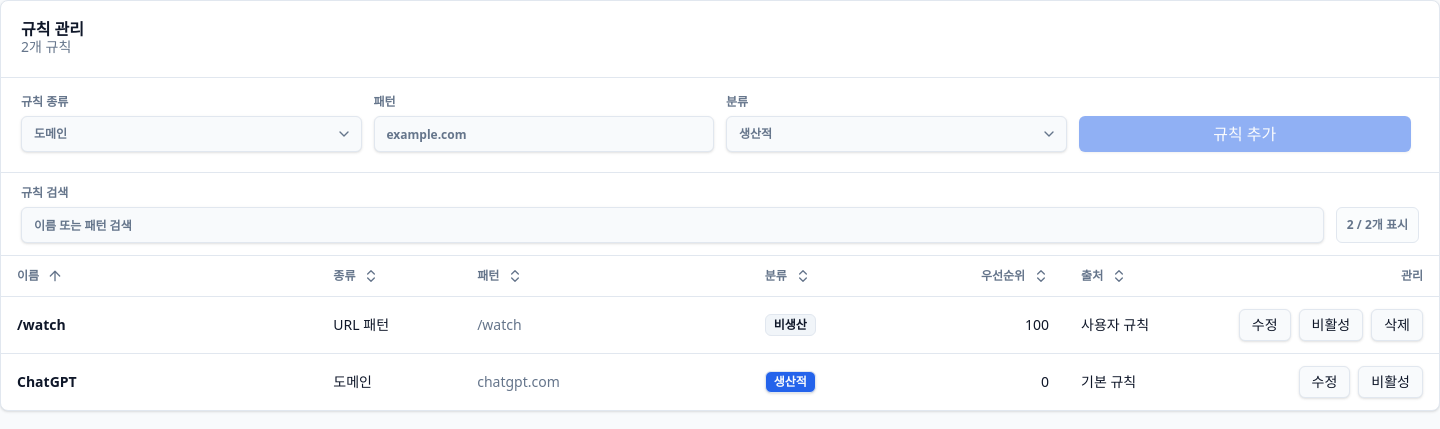
Test: RulesSettings › deletes user rules from the management column
Step 1. Click the button "삭제" → (1397, 324), box [1371,308,1423,340]
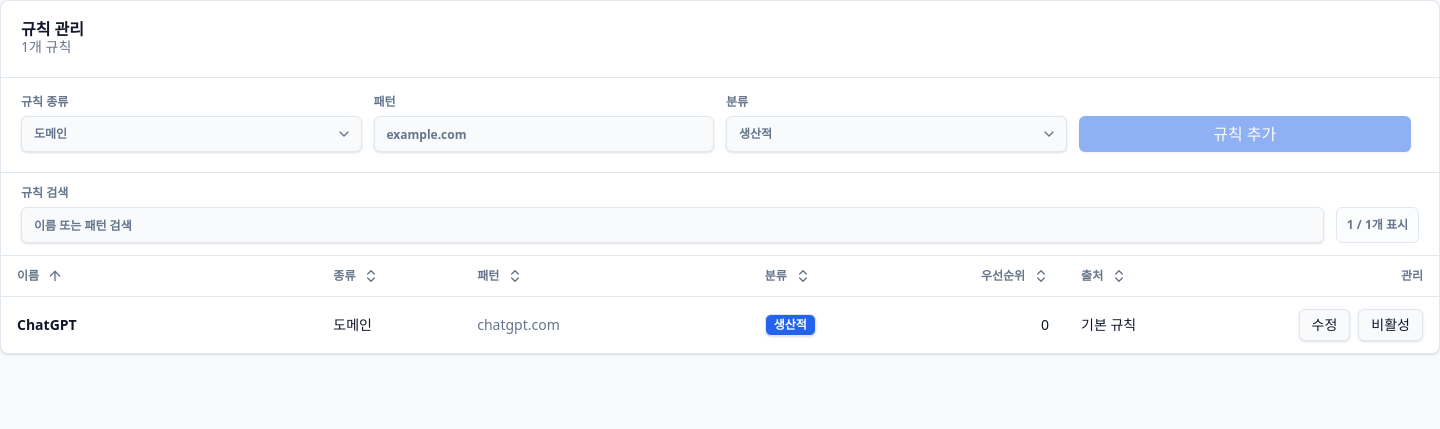
Now the text "/watch" is gone
